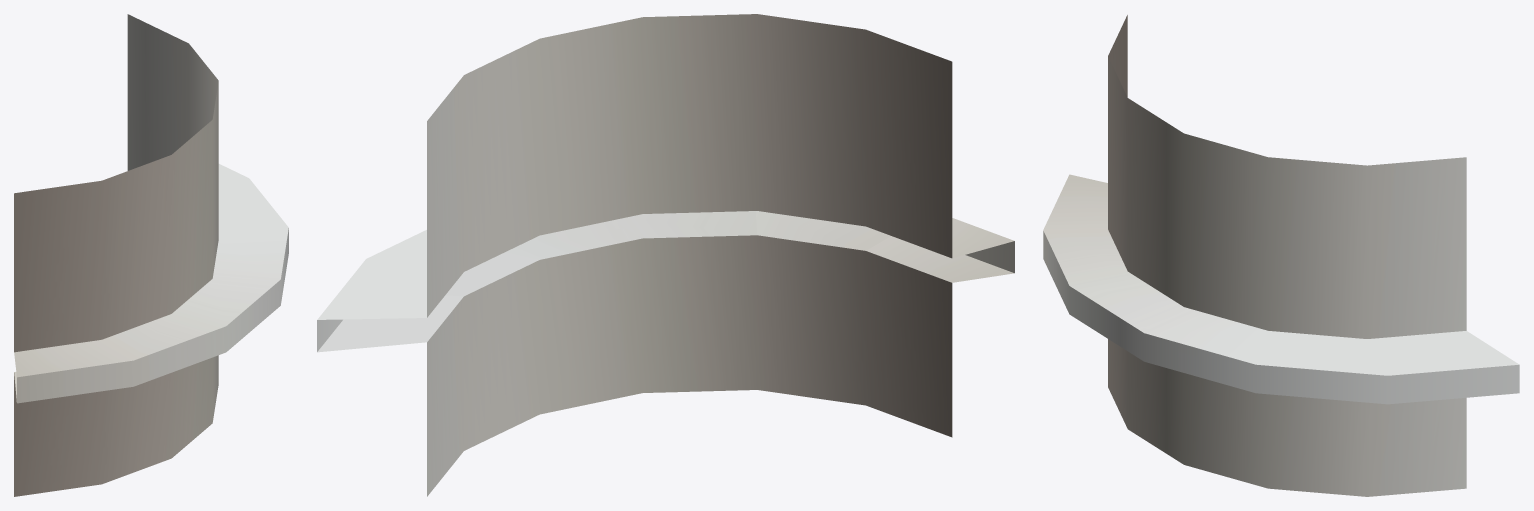
Rendered from WallCurv.fbx.
The picture shows the model from 3 angles, left to right: view 1: azimuth 30°, elevation 25°; view 2: azimuth 150°, elevation 25°; view 3: azimuth 270°, elevation 25°; orthographic projection. The views are drawn at different scales.
Visible parts, largest first — view 1: Cylinder034; view 2: Cylinder034; view 3: Cylinder034.
Part boxes in pixels (box(x1,y1,x2,y2)): Cylinder034: box(14, 14, 288, 496); Cylinder034: box(317, 14, 1014, 496); Cylinder034: box(1043, 15, 1519, 496).
Bounding box in the file's own units: 303 × 233 × 303.
